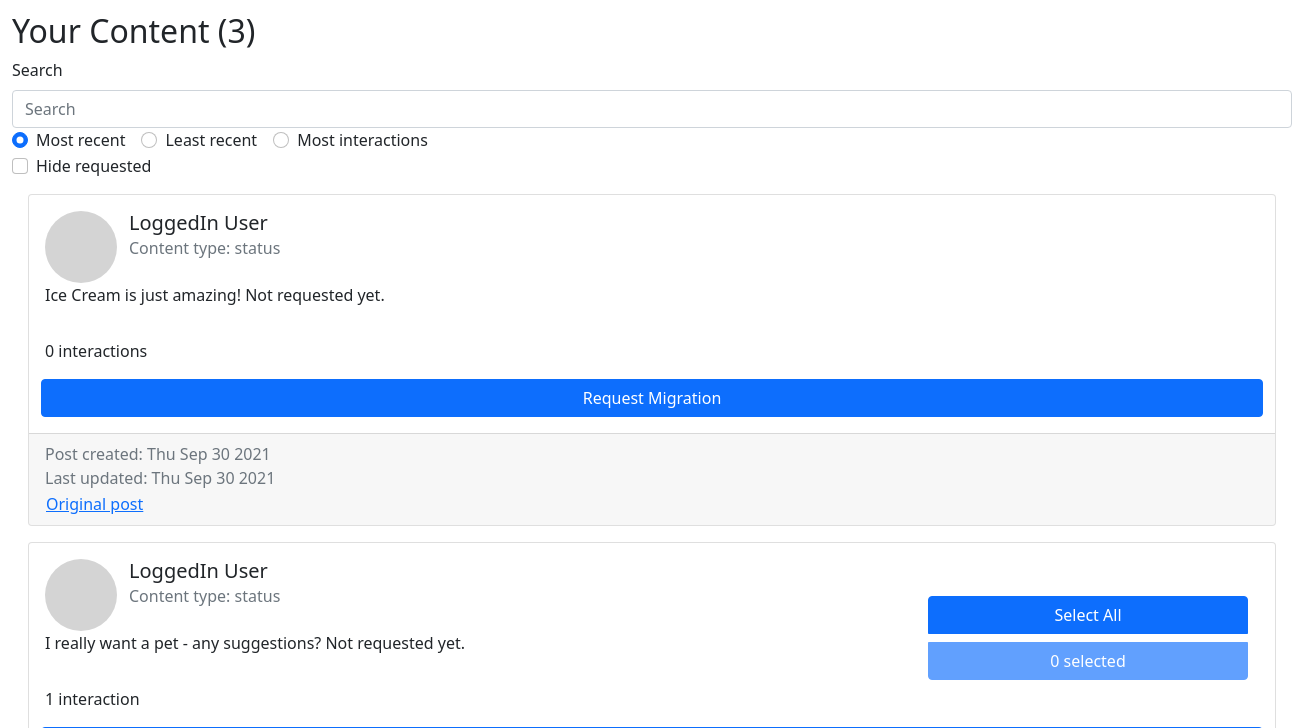
Test: User has multiple posts in FB group › Simulate user select one of the posts that has not been requested
The image size is (1304, 728).
Expected: the button "0 selected" is shown, [928,642,1248,680]
Click the text "Ice Cream is just amazing! Not requested yet.": [215, 295] box [45,284,385,306]
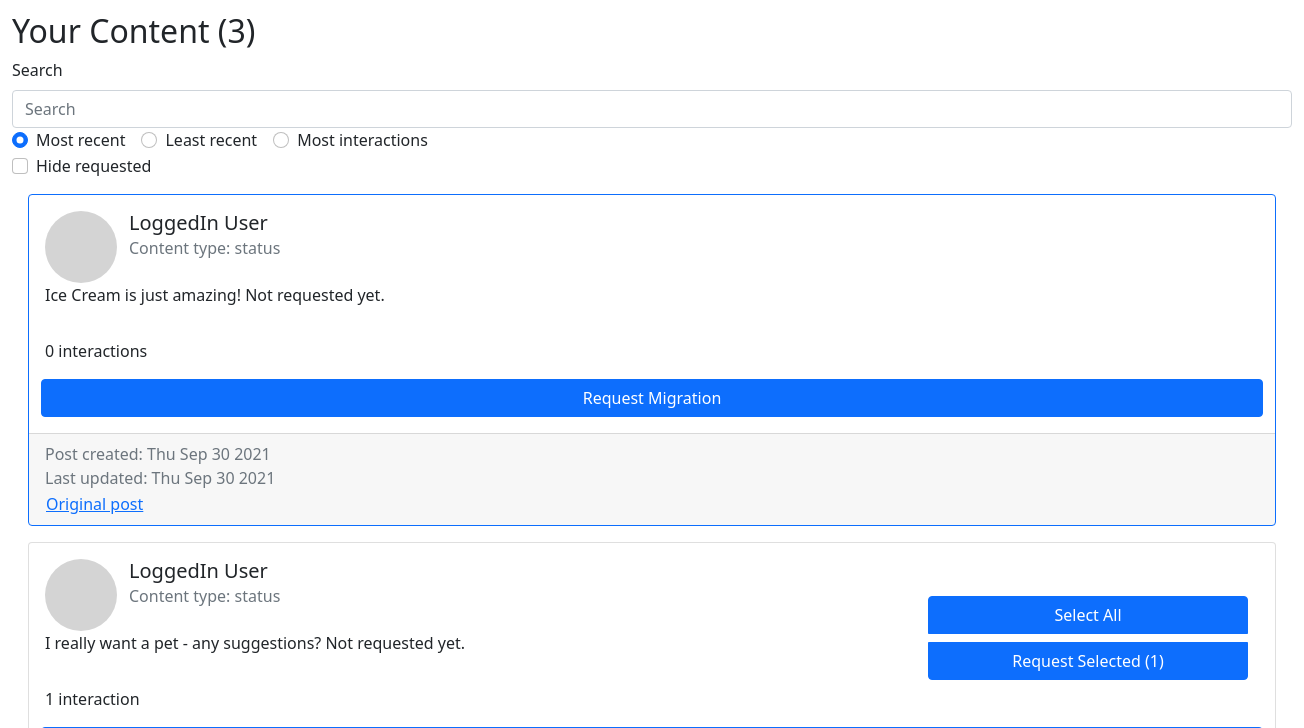
Result: the button "Request Selected (1)" is shown at [928,642,1248,680]
